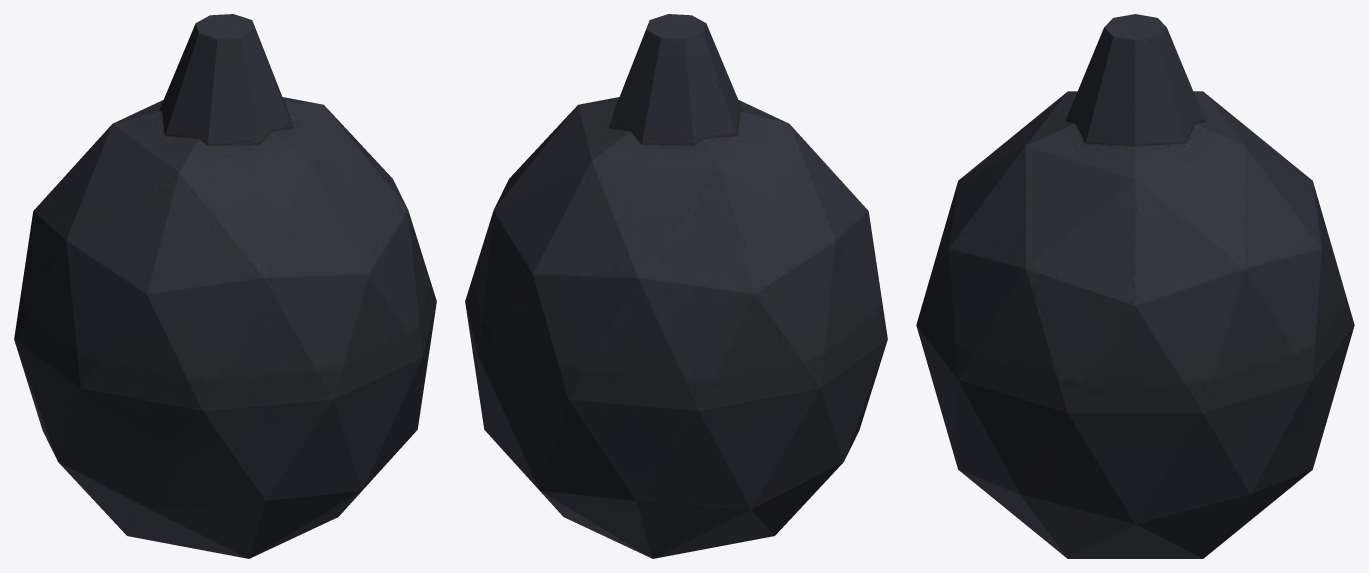
The model's file is prop_trash.glb.
3 renders of one model, left to right at view 1: azimuth 30°, elevation 25°; view 2: azimuth 150°, elevation 25°; view 3: azimuth 270°, elevation 25°, orthographic.
Visible parts, largest first — view 1: TrashBag; view 2: TrashBag; view 3: TrashBag.
Part boxes in pixels (x1,y1,x2,y2): TrashBag: [14, 14, 436, 558]; TrashBag: [465, 14, 887, 558]; TrashBag: [916, 14, 1354, 558].
Size of the model in its own units: 0.2663 by 0.371 by 0.28.
Materials: 1 (1 with a texture image).
